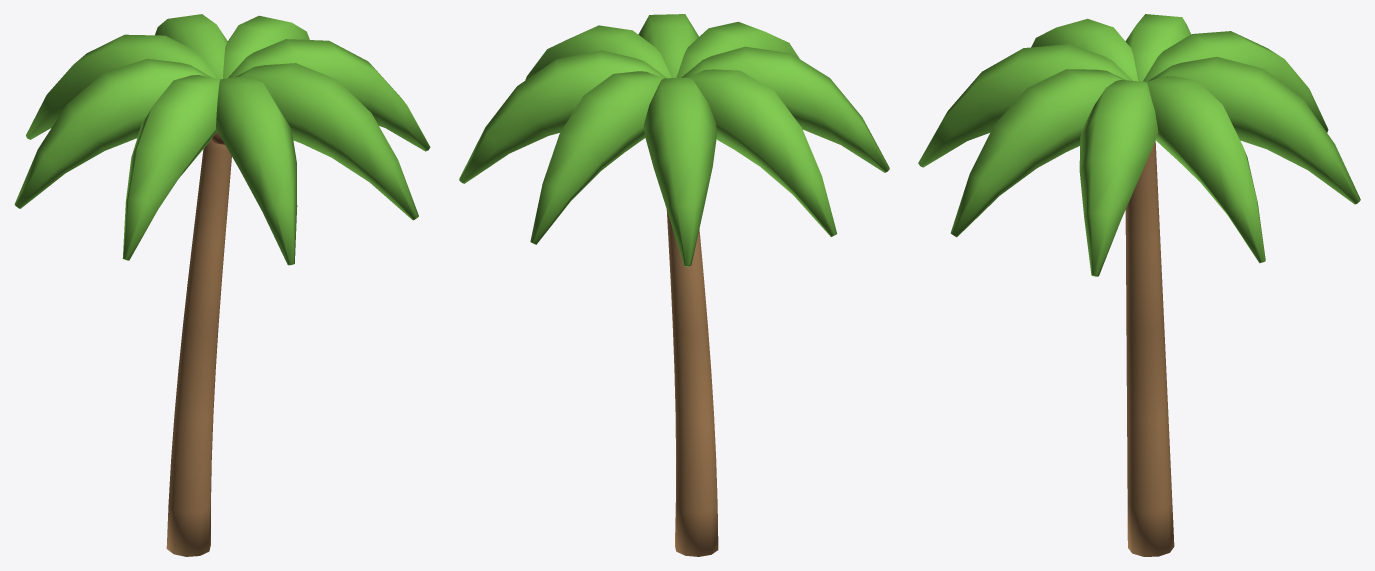
File: palm_tree.glb
3 renders of one model, left to right at view 1: azimuth 30°, elevation 25°; view 2: azimuth 150°, elevation 25°; view 3: azimuth 270°, elevation 25°, orthographic. The views are drawn at different scales.
Parts seen in each view (by area): view 1: Palm_Tree_Fronds, Palm_Tree_Trunk; view 2: Palm_Tree_Fronds, Palm_Tree_Trunk; view 3: Palm_Tree_Fronds, Palm_Tree_Trunk.
Part boxes in pixels (left/top/right/bottom): Palm_Tree_Fronds: left=14, top=14, right=430, bottom=265; Palm_Tree_Trunk: left=166, top=139, right=231, bottom=556; Palm_Tree_Fronds: left=459, top=14, right=889, bottom=266; Palm_Tree_Trunk: left=666, top=209, right=718, bottom=556; Palm_Tree_Fronds: left=918, top=14, right=1360, bottom=276; Palm_Tree_Trunk: left=1125, top=140, right=1174, bottom=556.
Size of the model in its own units: 4.57 by 5.74 by 4.57.
